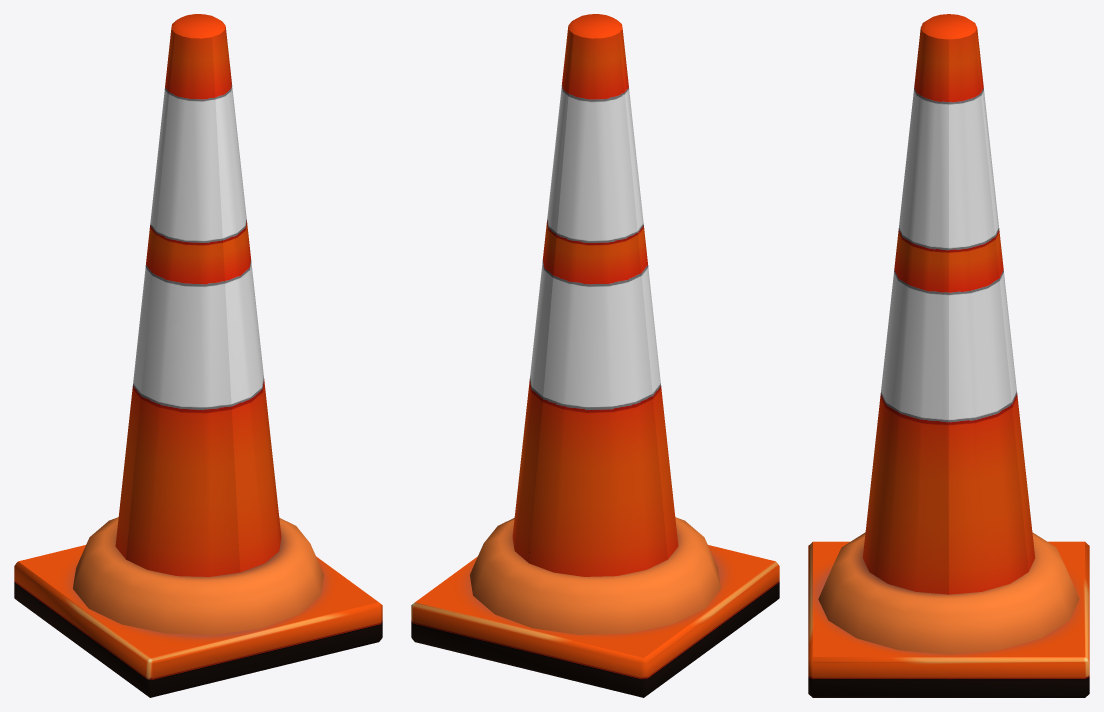
File: active.Cone-02.glb
3 views of the same model, side by side, from view 1: azimuth 30°, elevation 25°; view 2: azimuth 150°, elevation 25°; view 3: azimuth 270°, elevation 25° (orthographic). The views are drawn at different scales.
Parts seen in each view (by area): view 1: active.Cone 02; view 2: active.Cone 02; view 3: active.Cone 02.
Boxes of the visible parts, x1,y1,x2,y2 form: active.Cone 02: (14, 14, 382, 697); active.Cone 02: (411, 14, 779, 697); active.Cone 02: (808, 14, 1089, 697).
Size of the model in its own units: 0.4133 by 1 by 0.4133.
Materials: 1 (1 with a texture image).
